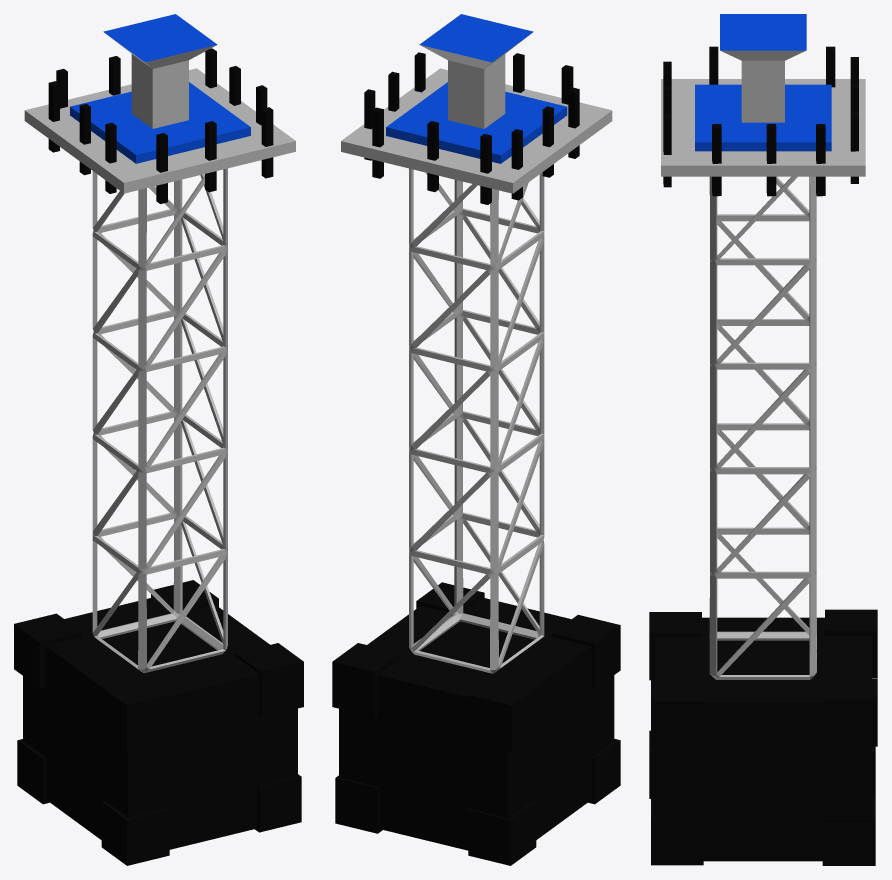
The model's file is blue tower.fbx.
The picture shows the model from 3 angles, left to right: view 1: azimuth 30°, elevation 25°; view 2: azimuth 150°, elevation 25°; view 3: azimuth 270°, elevation 25°; orthographic projection. The views are drawn at different scales.
Parts seen in each view (by area): view 1: polySurface21, polySurface23, polySurface22, polySurface10, polySurface11, polySurface12, polySurface20, polySurface9, polySurface14, polySurface13, polySurface16, polySurface18 (+4 smaller); view 2: polySurface21, polySurface23, polySurface22, polySurface20, polySurface14, polySurface13, polySurface10, polySurface6, polySurface11, polySurface12, polySurface2, polySurface3 (+4 smaller); view 3: polySurface21, polySurface22, polySurface23, polySurface13, polySurface12, polySurface9, polySurface6, polySurface20, polySurface10, polySurface19, polySurface8, polySurface15 (+1 smaller).
Part boxes in pixels (bbox=[...]): polySurface21: bbox=[23, 597, 297, 849]; polySurface23: bbox=[92, 168, 227, 673]; polySurface22: bbox=[24, 14, 295, 193]; polySurface10: bbox=[101, 676, 169, 750]; polySurface11: bbox=[101, 801, 169, 865]; polySurface12: bbox=[235, 643, 303, 717]; polySurface20: bbox=[14, 613, 82, 687]; polySurface9: bbox=[255, 774, 301, 832]; polySurface14: bbox=[17, 739, 49, 804]; polySurface13: bbox=[151, 580, 218, 610]; polySurface16: bbox=[261, 107, 273, 178]; polySurface18: bbox=[205, 121, 216, 192]; polySurface21: bbox=[339, 597, 614, 850]; polySurface23: bbox=[409, 168, 544, 673]; polySurface22: bbox=[341, 14, 612, 193]; polySurface20: bbox=[469, 676, 537, 750]; polySurface14: bbox=[468, 801, 536, 865]; polySurface13: bbox=[332, 643, 400, 717]; polySurface10: bbox=[552, 614, 620, 688]; polySurface6: bbox=[335, 775, 382, 833]; polySurface11: bbox=[588, 738, 620, 804]; polySurface12: bbox=[416, 582, 484, 612]; polySurface2: bbox=[372, 107, 383, 178]; polySurface3: bbox=[480, 134, 491, 204]; polySurface21: bbox=[654, 617, 871, 861]; polySurface22: bbox=[661, 14, 865, 176]; polySurface23: bbox=[709, 176, 816, 679]; polySurface13: bbox=[825, 678, 877, 746]; polySurface12: bbox=[651, 680, 703, 747]; polySurface9: bbox=[651, 797, 703, 865]; polySurface6: bbox=[822, 797, 875, 865]; polySurface20: bbox=[825, 609, 877, 677]; polySurface10: bbox=[649, 612, 701, 680]; polySurface19: bbox=[766, 124, 776, 196]; polySurface8: bbox=[816, 124, 825, 196]; polySurface15: bbox=[712, 124, 721, 196].
Bounding box in the file's own units: 14.87 × 60.51 × 15.86.
